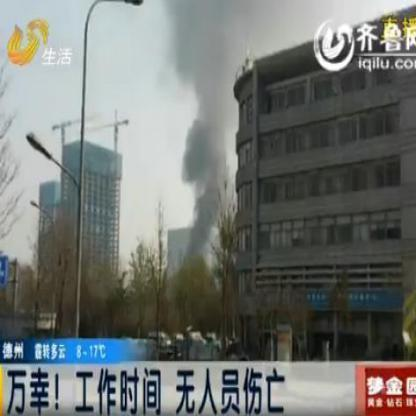smoke: (178, 8, 232, 70), (187, 178, 221, 247), (241, 9, 301, 42), (188, 129, 224, 174), (197, 82, 230, 124)
